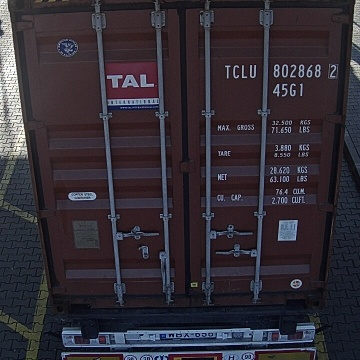serial_id: (224, 63, 337, 79)
